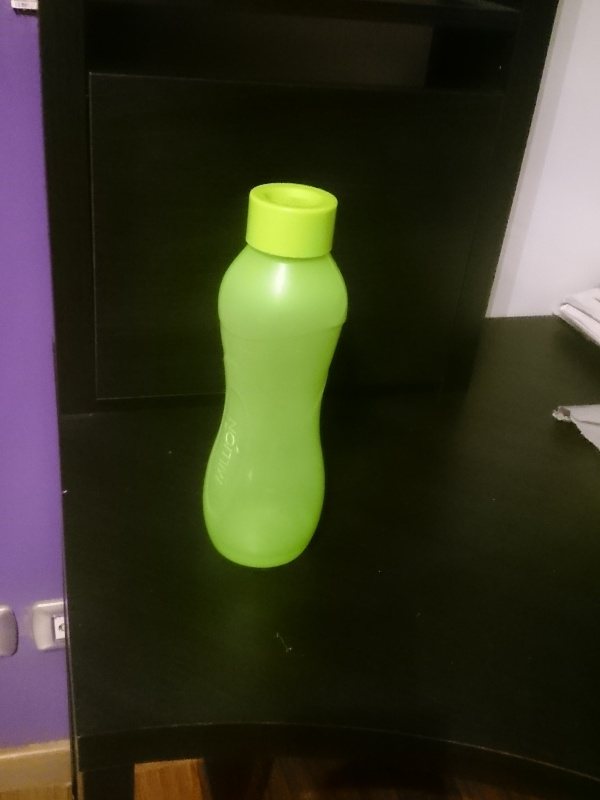my bottle: (199, 182, 348, 567)
